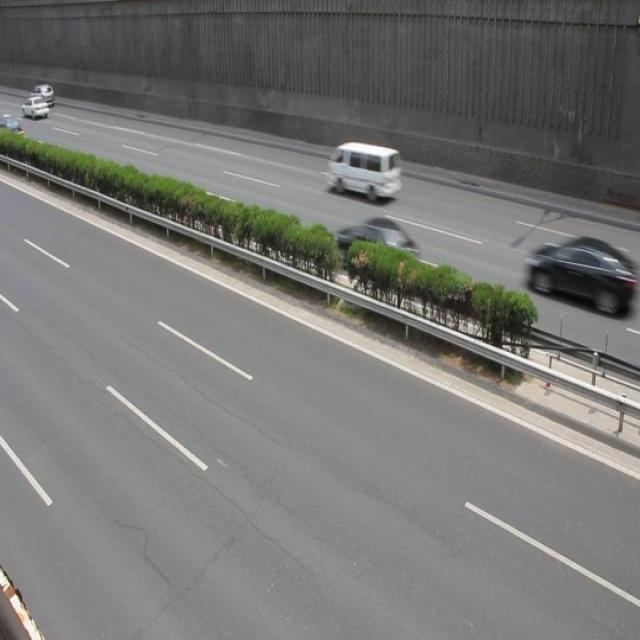car: (525, 235, 619, 315), (338, 213, 421, 287)
truck: (325, 140, 402, 201)
